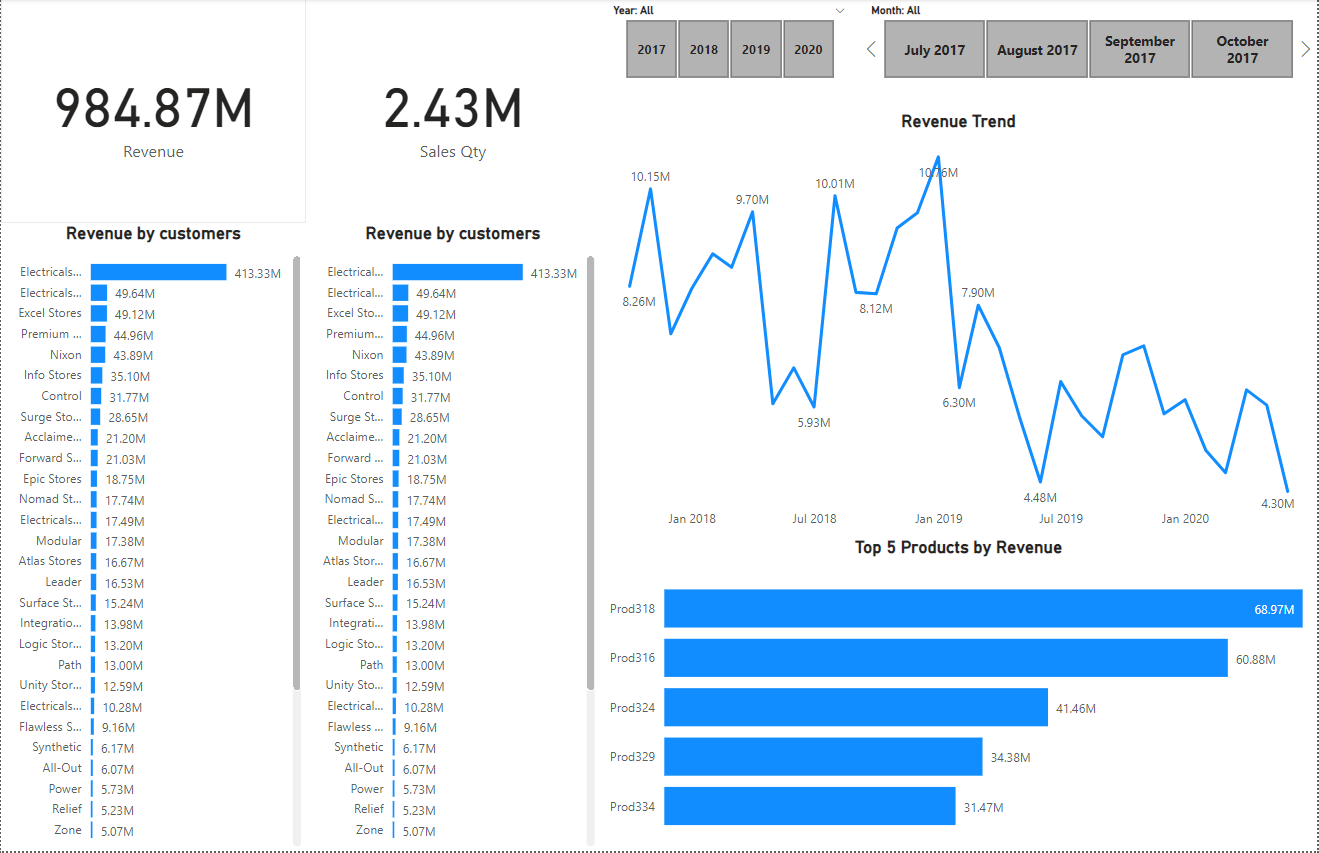

What the dashboard file says about the page in this screenshot:
{"tool":"powerbi","page":{"name":"Page 1","canvas":[1290,835],"ordinal":0},"visuals":[{"type":"card","fields":{"Values":["new_measures.Revenue"]},"box":[0,0,299,219.6],"z":0},{"type":"card","fields":{"Values":["new_measures.Sales Qty"]},"box":[299,0,288.2,219.6],"z":1000},{"type":"barChart","title":"Revenue by customers","fields":{"Y":["new_measures.Revenue"],"Category":["sales customers.custmer_name"]},"box":[0,219.6,299,615.6],"z":2000},{"type":"barChart","title":"Revenue by customers","fields":{"Y":["new_measures.Revenue"],"Category":["sales customers.custmer_name"]},"box":[299,219.6,288.2,615.6],"z":3000},{"type":"slicer","fields":{"Values":["sales date.cy_date"]},"box":[840.1,0,449.9,84.3],"z":4000},{"type":"slicer","fields":{"Values":["sales date.year"]},"box":[587.2,0,252.9,84.3],"z":5000},{"type":"barChart","title":"Top 5 Products by Revenue","fields":{"Y":["new_measures.Revenue"],"Category":["sales transactions.product_code"]},"box":[587.2,527.4,702.8,307.8],"z":6000},{"type":"lineChart","title":"Revenue Trend","fields":{"Y":["new_measures.Revenue"],"Category":["sales date.cy_date"]},"box":[587,109.8,702.7,417.5],"z":7000}]}

Visuals, with their boxes in screenshot pixels (x1, y1, x2, y2), scaled from the page's 1290x835 canvas onto the 1319x853 screenshot:
card - new_measures.Revenue: locate(0, 0, 306, 224)
card - new_measures.Sales Qty: locate(306, 0, 600, 224)
"Revenue by customers" barChart: locate(0, 224, 306, 852)
"Revenue by customers" barChart: locate(306, 224, 600, 852)
slicer - sales date.cy_date: locate(859, 0, 1318, 86)
slicer - sales date.year: locate(600, 0, 859, 86)
"Top 5 Products by Revenue" barChart: locate(600, 539, 1318, 852)
"Revenue Trend" lineChart: locate(600, 112, 1318, 539)
